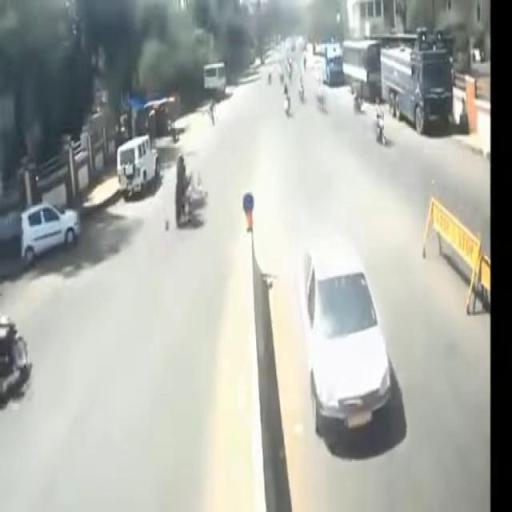小汽车: (293, 246, 406, 440), (381, 41, 454, 129), (16, 210, 85, 259), (116, 136, 162, 194), (342, 41, 385, 100)
自行车: (372, 93, 388, 147), (278, 84, 295, 117)
